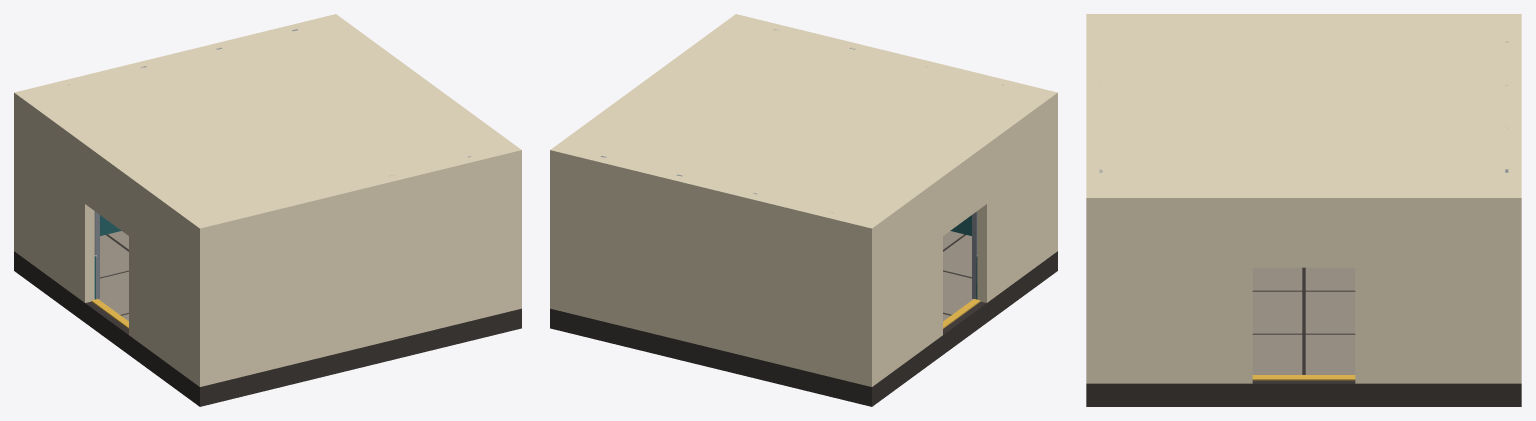
File: Kit_CellShell.fbx
3 views of the same model, side by side, from view 1: azimuth 30°, elevation 25°; view 2: azimuth 150°, elevation 25°; view 3: azimuth 270°, elevation 25° (orthographic). The views are drawn at different scales.
Visible parts, largest first — view 1: FrontWall, Ceiling, SideWallXPos, Floor, BackWall, SideWallXNeg; view 2: BackWall, Ceiling, SideWallXPos, Floor, FrontWall, SideWallXNeg; view 3: Ceiling, SideWallXNeg, Floor, BackWall, FrontWall, SideWallXPos.
Boxes of the visible parts, x1,y1,x2,y2 form: FrontWall: (194,146,521,386); Ceiling: (29,20,506,222); SideWallXPos: (19,94,203,382); Floor: (14,231,521,406); BackWall: (14,14,340,254); SideWallXNeg: (332,18,515,148); BackWall: (550,146,877,386); Ceiling: (565,20,1042,222); SideWallXPos: (868,94,1052,382); Floor: (550,231,1057,406); FrontWall: (731,14,1057,254); SideWallXNeg: (556,18,739,148); Ceiling: (1099,19,1508,192); SideWallXNeg: (1099,192,1508,383); Floor: (1086,267,1521,406); BackWall: (1505,14,1521,383); FrontWall: (1086,14,1102,383); SideWallXPos: (1099,14,1508,19).
Bounding box in the file's own units: 34 × 18 × 34.
